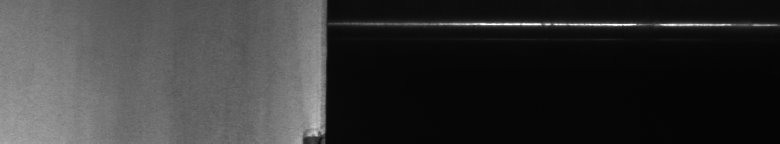hb: (300, 123, 316, 136)
